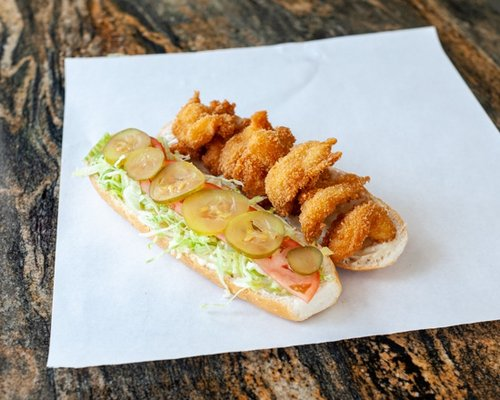soup: (81, 91, 413, 325)
